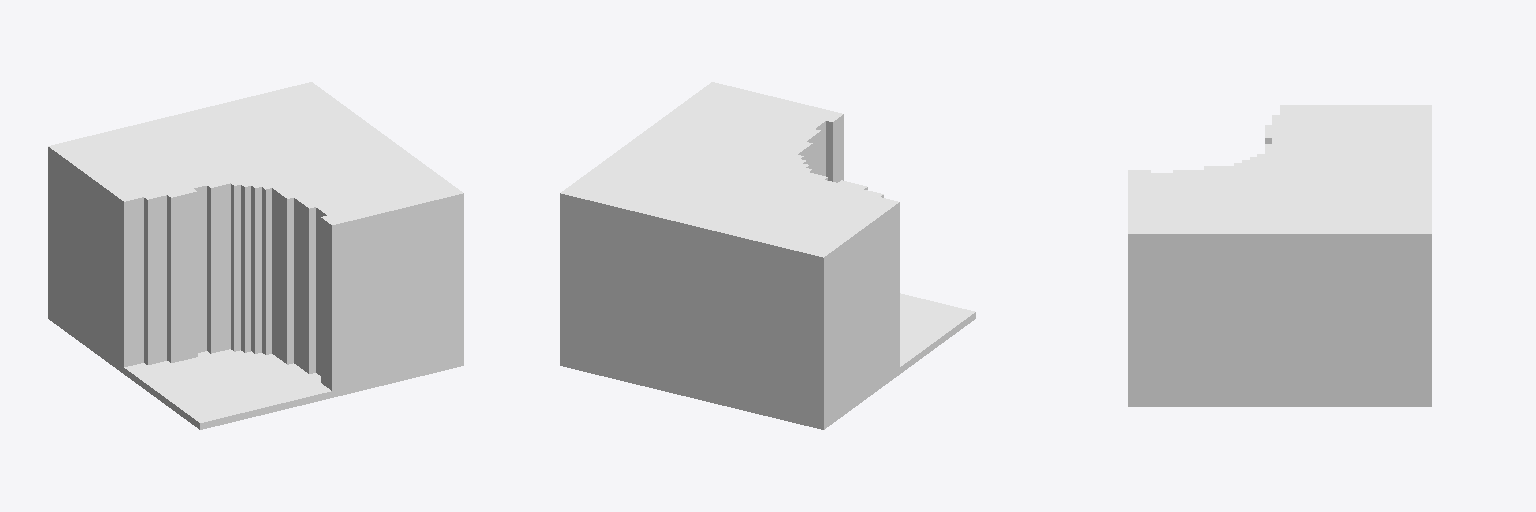
Rendered from tile-cornermountain.obj.
3 views of the same model, side by side, from view 1: azimuth 30°, elevation 25°; view 2: azimuth 150°, elevation 25°; view 3: azimuth 270°, elevation 25° (orthographic).
Parts seen in each view (by area): view 1: prototype-cornermountain; view 2: prototype-cornermountain; view 3: prototype-cornermountain.
Part boxes in pixels (x1,y1,x2,y2): prototype-cornermountain: (48,82,463,429); prototype-cornermountain: (560,82,975,429); prototype-cornermountain: (1128,105,1431,406).
Size of the model in its own units: 40 by 25 by 40.